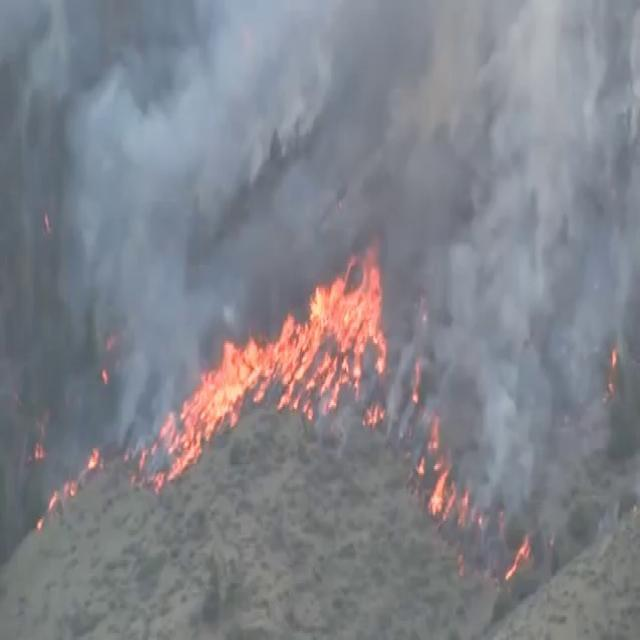Fire: (124, 238, 388, 496), (33, 441, 99, 532), (416, 414, 468, 526), (504, 532, 530, 582), (412, 361, 420, 404)
Smoke: (1, 1, 640, 542)
